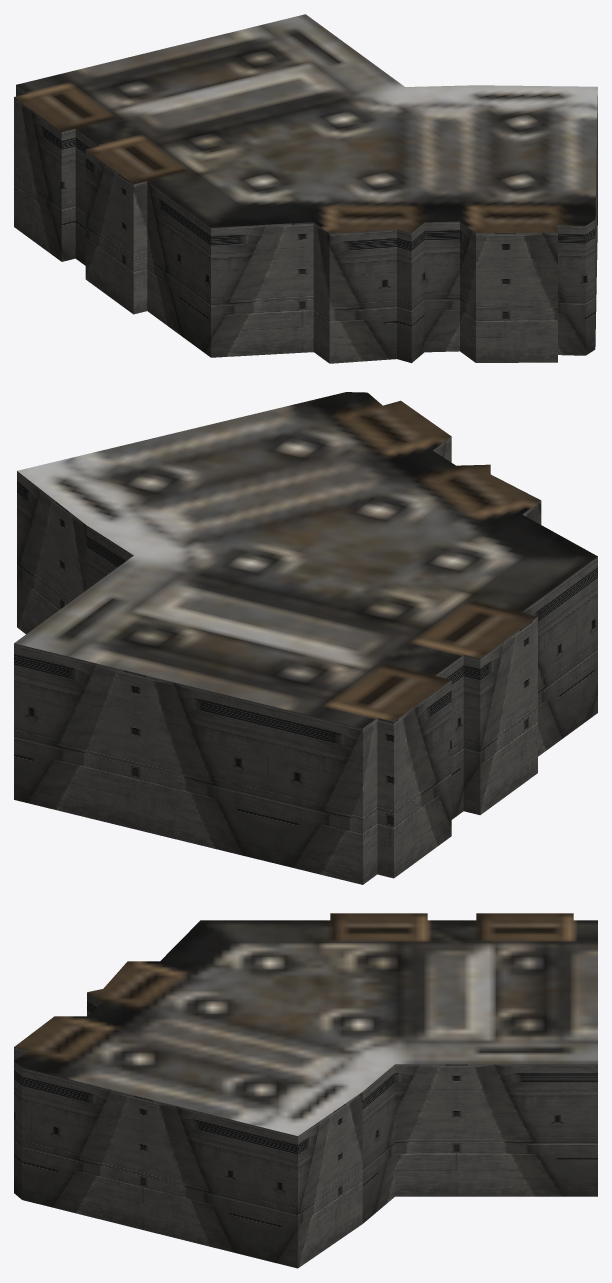
File: fortress_heavy_a_05.glb
3 renders of one model, top to bottom at view 1: azimuth 30°, elevation 25°; view 2: azimuth 150°, elevation 25°; view 3: azimuth 270°, elevation 25°, orthographic. The views are drawn at different scales.
Visible parts, largest first — view 1: buildings/saxarba/fortress_heavy/fortress_heavy_a_05; view 2: buildings/saxarba/fortress_heavy/fortress_heavy_a_05; view 3: buildings/saxarba/fortress_heavy/fortress_heavy_a_05.
Part boxes in pixels (<box>): buildings/saxarba/fortress_heavy/fortress_heavy_a_05: <box>14,14,597,363</box>; buildings/saxarba/fortress_heavy/fortress_heavy_a_05: <box>14,392,597,884</box>; buildings/saxarba/fortress_heavy/fortress_heavy_a_05: <box>14,913,597,1268</box>.
Size of the model in its own units: 65 by 18 by 72.
